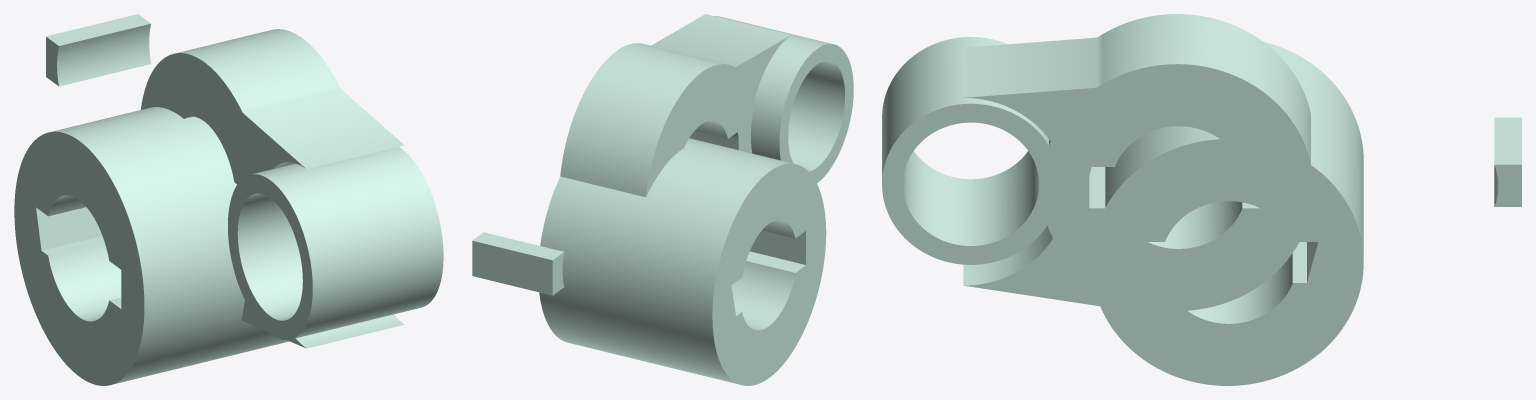
The picture shows the model from 3 angles, left to right: view 1: azimuth 30°, elevation 25°; view 2: azimuth 150°, elevation 25°; view 3: azimuth 270°, elevation 25°; orthographic projection. The views are drawn at different scales.
Visible parts, largest first — view 1: Renderer Node; view 2: Renderer Node; view 3: Renderer Node.
Part boxes in pixels (<box>): Renderer Node: <box>14,14,443,385</box>; Renderer Node: <box>472,14,853,385</box>; Renderer Node: <box>882,14,1521,385</box>.
Size of the model in its own units: 0.5234 by 0.7718 by 1.39.
